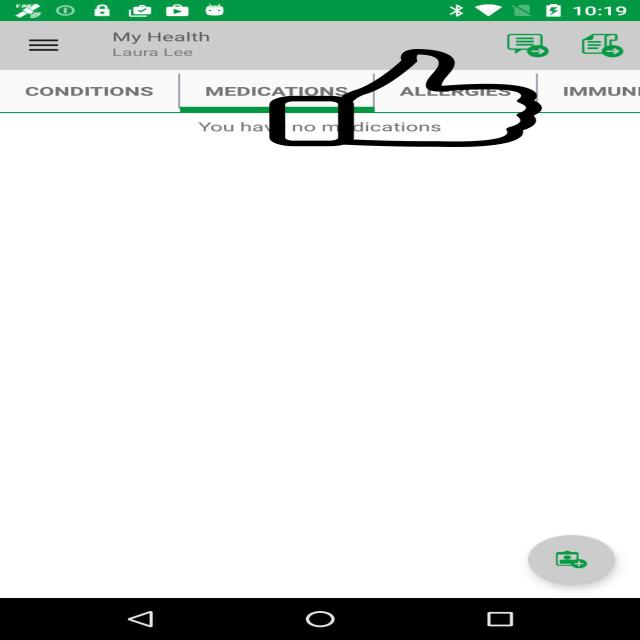privacy zuckering: (265, 49, 546, 147)
